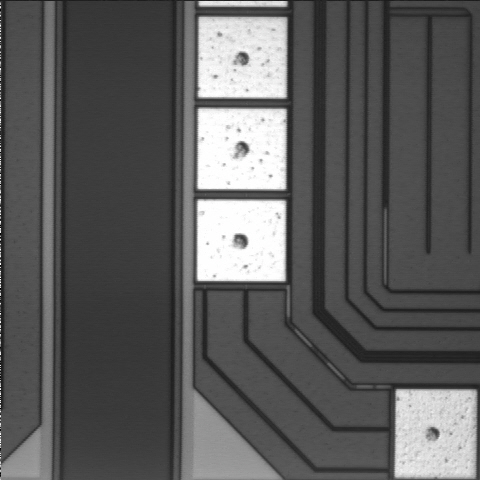pad: (197, 108, 286, 190), (197, 199, 286, 281), (198, 17, 287, 98), (395, 390, 476, 478)
